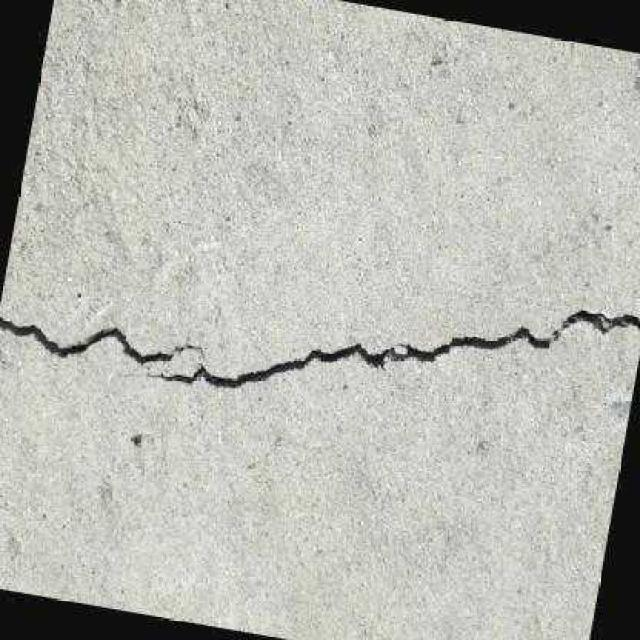D00: (149, 304, 640, 388), (0, 313, 200, 364)
